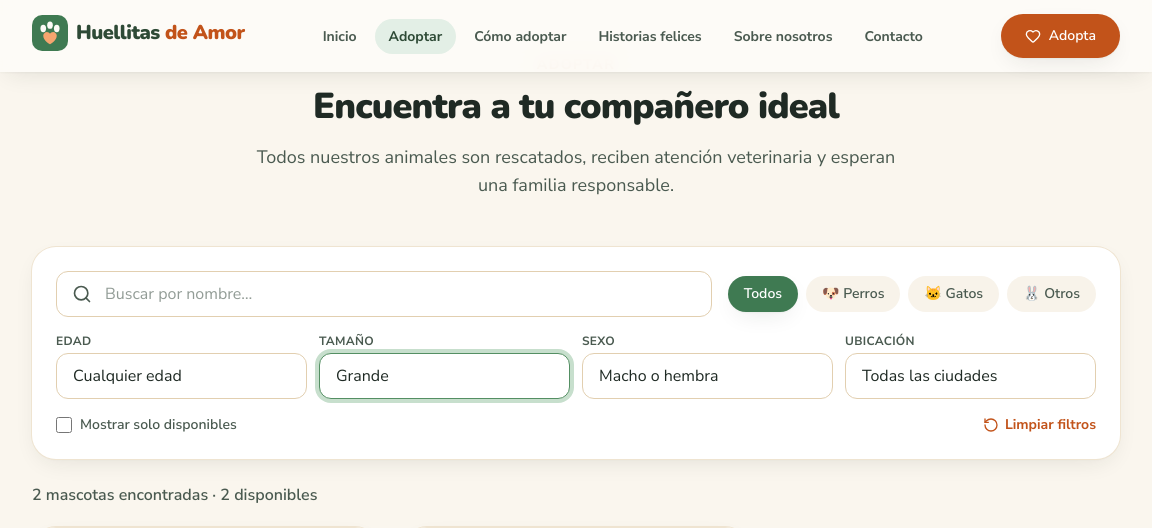
Scenario: Huellitas de Amor › muestra un estado vacío y permite limpiar los filtros
The image size is (1152, 528).
Earlier steps of the test are not shown.
Later steps or results of the test are not shown.
(page scrolled)
Select "Cusco" in the dropdown labelled "Ubicación": x=970, y=376 [845,353,1096,399]
(page scrolled)
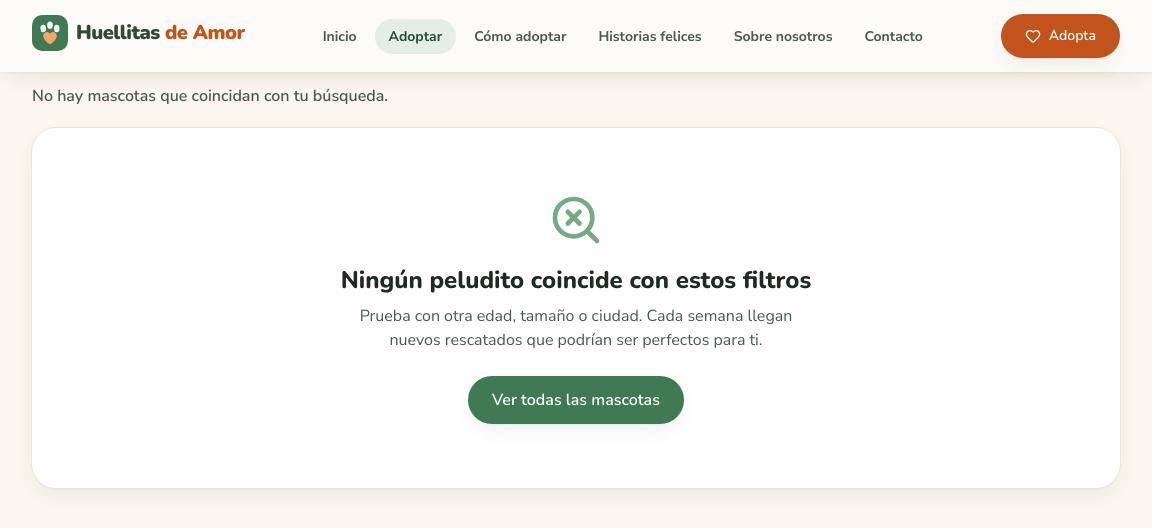
Result: the heading "Ningún peludito coincide con estos filtros" is shown at [341,264,811,296]
Result: the message shows "No hay mascotas" at [32,85,388,107]
